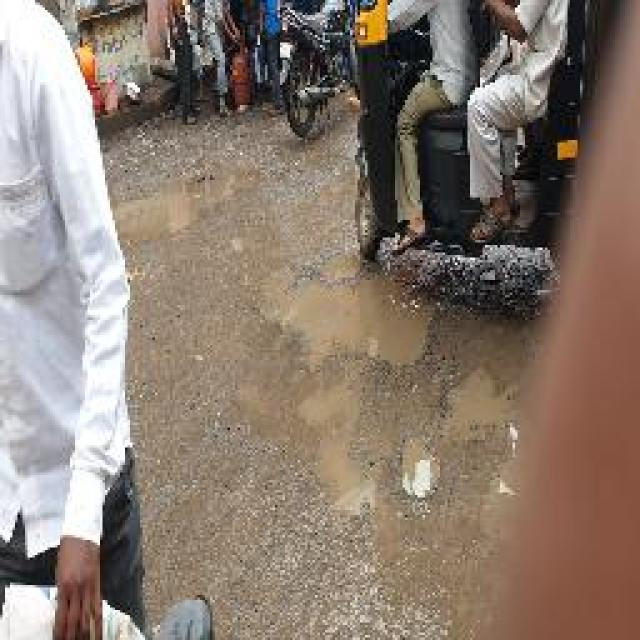waterlogging: (226, 352, 385, 546), (118, 154, 266, 255), (422, 349, 518, 453)
